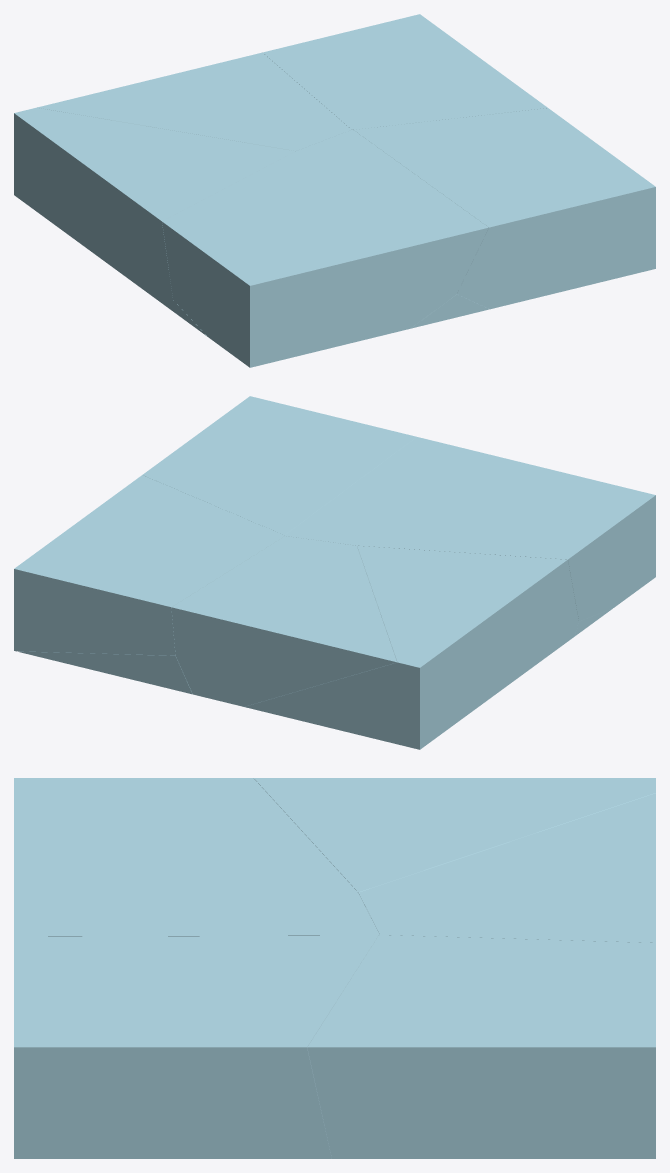
Rendered from breakable.fbx.
The picture shows the model from 3 angles, top to bottom: view 1: azimuth 30°, elevation 25°; view 2: azimuth 150°, elevation 25°; view 3: azimuth 270°, elevation 25°; orthographic projection. The views are drawn at different scales.
Visible parts, largest first — view 1: Cube_cell.001, Cube_cell.005, Cube_cell.002, Cube_cell.007, Cube_cell.003, Cube_cell.004; view 2: Cube_cell.002, Cube_cell.001, Cube_cell.007, Cube_cell.003, Cube_cell.005, Cube_cell.006; view 3: Cube_cell.007, Cube_cell.005, Cube_cell.001, Cube_cell.003, Cube_cell.002.
Part boxes in pixels (x1,y1,x2,y2): Cube_cell.001: (162,130,488,367); Cube_cell.005: (354,108,655,309); Cube_cell.002: (14,107,295,308); Cube_cell.007: (262,14,547,129); Cube_cell.003: (37,52,351,151); Cube_cell.004: (411,294,489,328); Cube_cell.002: (244,545,578,749); Cube_cell.001: (284,437,655,621); Cube_cell.007: (14,475,284,655); Cube_cell.003: (171,536,396,706); Cube_cell.005: (142,396,416,535); Cube_cell.006: (18,651,192,694); Cube_cell.007: (307,935,655,1158); Cube_cell.005: (14,935,378,1158); Cube_cell.001: (14,778,379,936); Cube_cell.003: (358,793,655,942); Cube_cell.002: (254,778,655,892).
Bounding box in the file's own units: 682 × 132 × 687.
